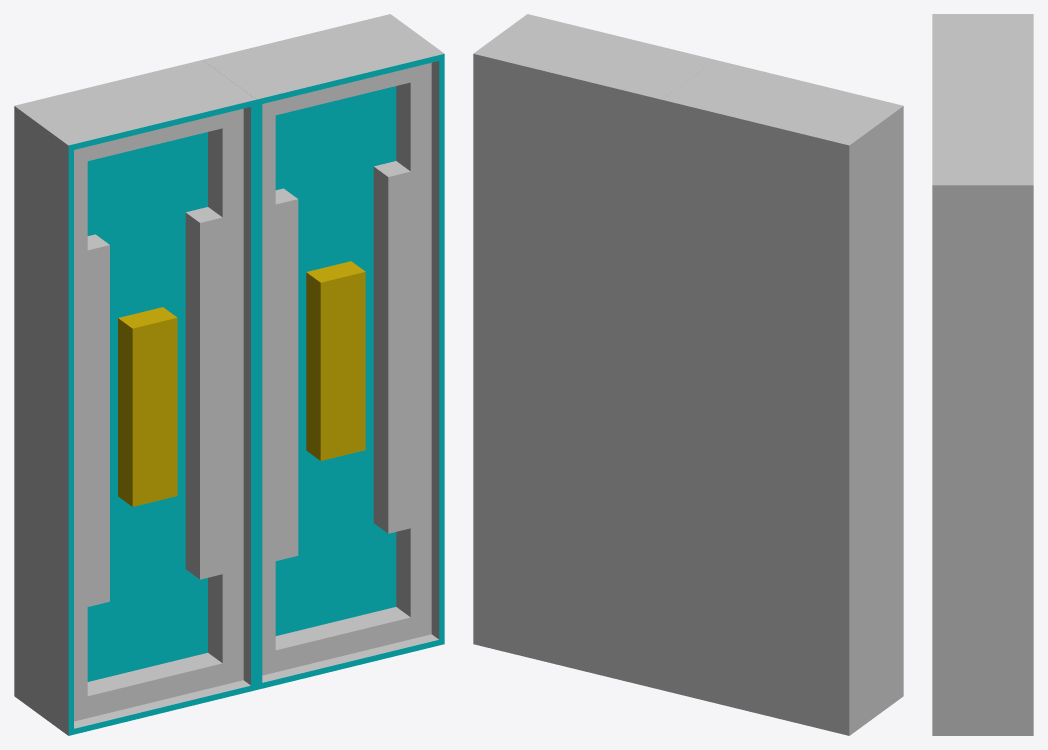
Rendered from Door.fbx.
3 renders of one model, left to right at view 1: azimuth 30°, elevation 25°; view 2: azimuth 150°, elevation 25°; view 3: azimuth 270°, elevation 25°, orthographic. The views are drawn at different scales.
Parts seen in each view (by area): view 1: Door; view 2: Door; view 3: Door.
Boxes of the visible parts, box(x1,y1,x2,y2) form: Door: box(14, 14, 444, 735); Door: box(473, 14, 903, 735); Door: box(932, 14, 1033, 735).
Size of the model in its own units: 400 by 600 by 100.
